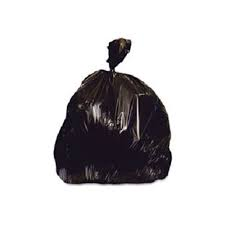Trash: (47, 28, 182, 197)
